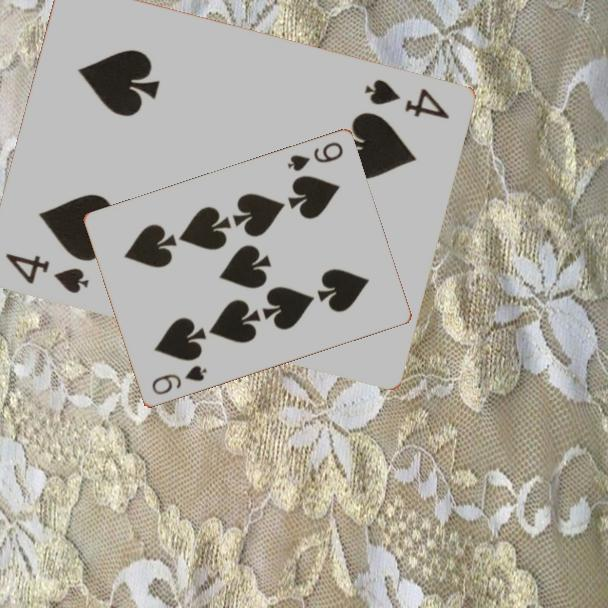s04: (360, 76, 452, 123), (1, 250, 92, 297)
s09: (148, 362, 210, 398), (284, 139, 346, 175)
